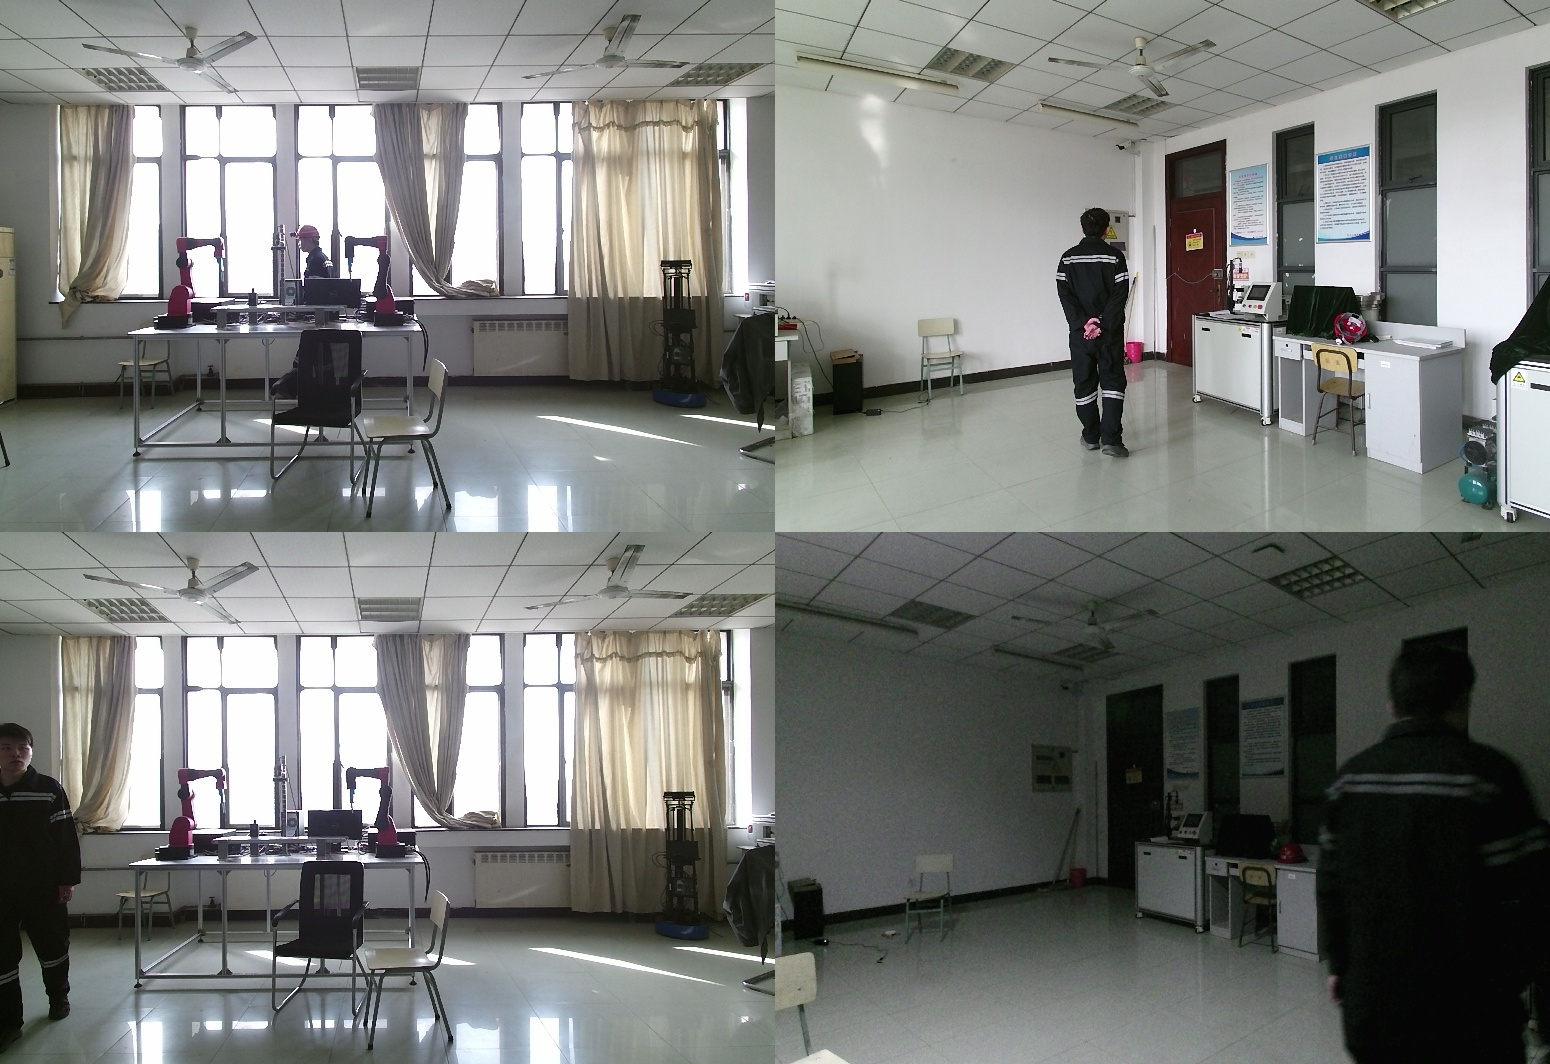person: (1322, 631, 1550, 1064), (3, 723, 88, 1048), (1054, 209, 1141, 460), (274, 224, 336, 398)
